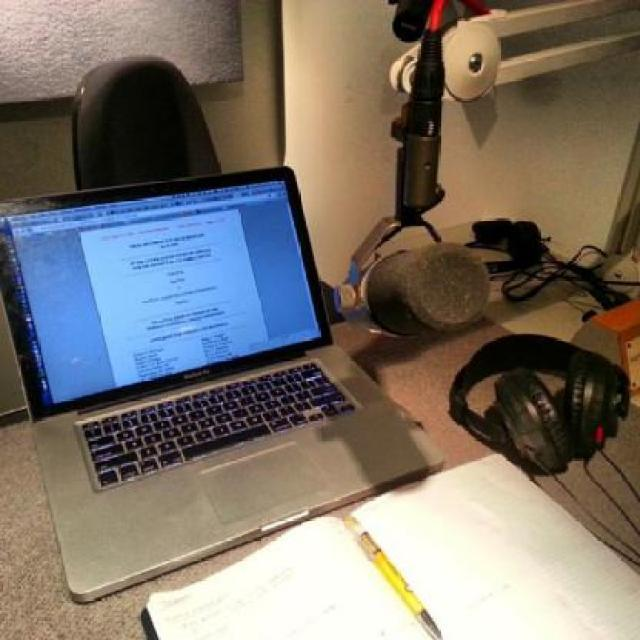earphone: (444, 326, 624, 480)
laptop_computer: (0, 163, 418, 595)
